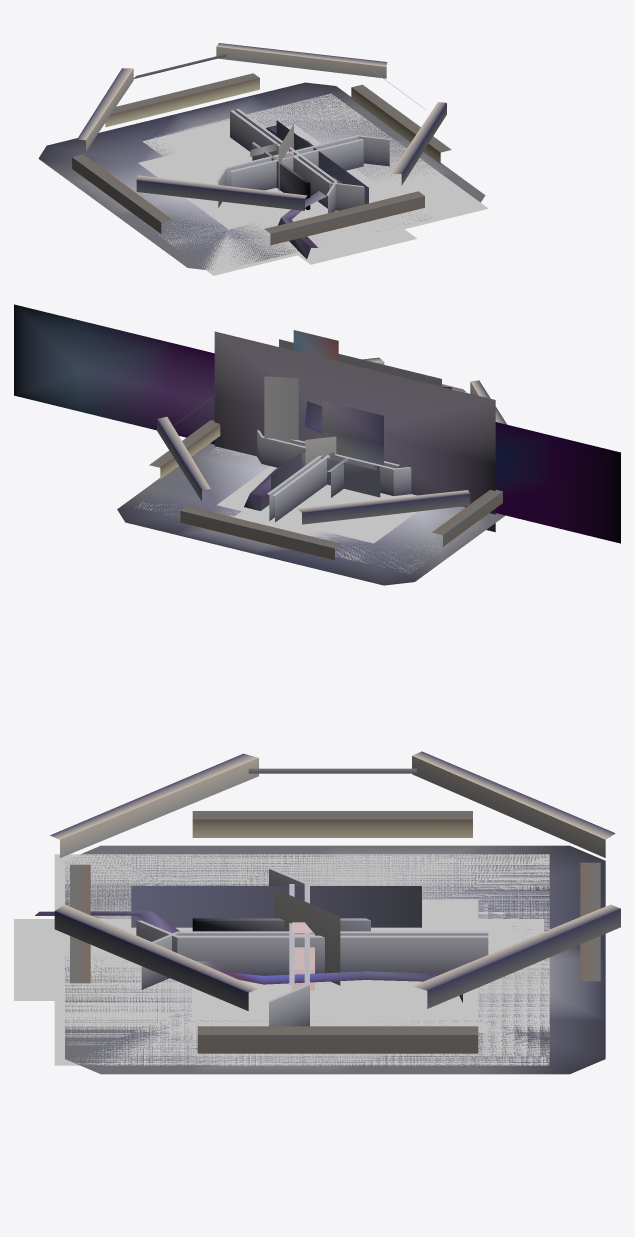
File: arena_armageddon.glb
The picture shows the model from 3 angles, top to bottom: view 1: azimuth 30°, elevation 25°; view 2: azimuth 150°, elevation 25°; view 3: azimuth 270°, elevation 25°; orthographic projection. The views are drawn at different scales.
Parts seen in each view (by area): view 1: 0x5ea_Arena_Armageddon_Barricades, 0x55b_Arena_Normal_Match_Outside_Floormats_Four_Corner_Secti, 0x55d_Arena_Normal_Match_Ring_Mat_Polygon, 0x55e_Arena_Scaffolding_Piece_1_Polygon, 0x55a_Arena_Back_Rafter_Sign_Polygon, 0x5eb_Arena_Armageddon_Stage_area_Under_the_Tank, 0x551_Arena_Right_Barricade_Lower_Side_Polygon, 0x54f_Arena_Right_Aisle_Barricade_Polygon, 0x553_Arena_Front_Barricade_Right_Side_Polygon, 0x5e9_Arena_Armageddon_The_Small_Brickwall, 0x556_Arena_Left_Barricade_Upper_Side_Polygon, 0x54e_Arena_Left_Aisle_Barricade_Polygon (+6 smaller); view 2: 0x5e7_Arena_Armageddon_Upper_Lights_hard_to_see, 0x5f1_Arena_Armageddon_Rightside_Column_Structure, 0x55b_Arena_Normal_Match_Outside_Floormats_Four_Corner_Secti, 0x55d_Arena_Normal_Match_Ring_Mat_Polygon, 0x55a_Arena_Back_Rafter_Sign_Polygon, 0x55e_Arena_Scaffolding_Piece_1_Polygon, 0x5ea_Arena_Armageddon_Barricades, 0x5f0_Arena_Armageddon_Leftside_Column_Structure, 0x5eb_Arena_Armageddon_Stage_area_Under_the_Tank, 0x5ec_Arena_Armageddon_Ramp_from_stage_to_Ring_Aisle_floor, 0x552_Arena_Right_Barricade_Upper_Side_Polygon, 0x560_Arena_Scaffolding_Piece_3_Polygon (+10 smaller); view 3: 0x5ea_Arena_Armageddon_Barricades, 0x55b_Arena_Normal_Match_Outside_Floormats_Four_Corner_Secti, 0x55e_Arena_Scaffolding_Piece_1_Polygon, 0x55a_Arena_Back_Rafter_Sign_Polygon, 0x55d_Arena_Normal_Match_Ring_Mat_Polygon, 0x5e9_Arena_Armageddon_The_Small_Brickwall, 0x554_Arena_Front_Barricade_Left_Side_Polygon, 0x5eb_Arena_Armageddon_Stage_area_Under_the_Tank, 0x555_Arena_Left_Barricade_Lower_Side_Polygon, 0x5e8_Arena_Armageddon_Curtain_Behind_Entry_on_Left_and_midd, 0x559_Arena_Front_Rafter_Sign_Polygon, 0x553_Arena_Front_Barricade_Right_Side_Polygon (+4 smaller).
Boxes of the visible parts, x1=… form: 0x5ea_Arena_Armageddon_Barricades: x1=138, y1=93, x2=488, y2=275; 0x55b_Arena_Normal_Match_Outside_Floormats_Four_Corner_Secti: x1=68, y1=95, x2=455, y2=258; 0x55d_Arena_Normal_Match_Ring_Mat_Polygon: x1=72, y1=73, x2=451, y2=245; 0x55e_Arena_Scaffolding_Piece_1_Polygon: x1=77, y1=43, x2=446, y2=210; 0x55a_Arena_Back_Rafter_Sign_Polygon: x1=38, y1=82, x2=485, y2=270; 0x5eb_Arena_Armageddon_Stage_area_Under_the_Tank: x1=142, y1=116, x2=416, y2=264; 0x551_Arena_Right_Barricade_Lower_Side_Polygon: x1=230, y1=110, x2=364, y2=210; 0x54f_Arena_Right_Aisle_Barricade_Polygon: x1=230, y1=149, x2=319, y2=190; 0x553_Arena_Front_Barricade_Right_Side_Polygon: x1=228, y1=135, x2=391, y2=186; 0x5e9_Arena_Armageddon_The_Small_Brickwall: x1=276, y1=120, x2=368, y2=204; 0x556_Arena_Left_Barricade_Upper_Side_Polygon: x1=282, y1=139, x2=363, y2=170; 0x54e_Arena_Left_Aisle_Barricade_Polygon: x1=252, y1=142, x2=310, y2=209; 0x5e7_Arena_Armageddon_Upper_Lights_hard_to_see: x1=14, y1=304, x2=620, y2=543; 0x5f1_Arena_Armageddon_Rightside_Column_Structure: x1=214, y1=331, x2=495, y2=532; 0x55b_Arena_Normal_Match_Outside_Floormats_Four_Corner_Secti: x1=147, y1=443, x2=505, y2=572; 0x55d_Arena_Normal_Match_Ring_Mat_Polygon: x1=149, y1=420, x2=502, y2=560; 0x55a_Arena_Back_Rafter_Sign_Polygon: x1=117, y1=488, x2=443, y2=585; 0x55e_Arena_Scaffolding_Piece_1_Polygon: x1=157, y1=357, x2=506, y2=524; 0x5ea_Arena_Armageddon_Barricades: x1=135, y1=447, x2=482, y2=573; 0x5f0_Arena_Armageddon_Leftside_Column_Structure: x1=322, y1=400, x2=383, y2=465; 0x5eb_Arena_Armageddon_Stage_area_Under_the_Tank: x1=233, y1=484, x2=400, y2=539; 0x5ec_Arena_Armageddon_Ramp_from_stage_to_Ring_Aisle_floor: x1=264, y1=376, x2=451, y2=442; 0x552_Arena_Right_Barricade_Upper_Side_Polygon: x1=264, y1=438, x2=411, y2=495; 0x560_Arena_Scaffolding_Piece_3_Polygon: x1=301, y1=452, x2=380, y2=497; 0x5ea_Arena_Armageddon_Barricades: x1=54, y1=854, x2=549, y2=1065; 0x55b_Arena_Normal_Match_Outside_Floormats_Four_Corner_Secti: x1=65, y1=845, x2=605, y2=1074; 0x55e_Arena_Scaffolding_Piece_1_Polygon: x1=50, y1=751, x2=620, y2=1010; 0x55a_Arena_Back_Rafter_Sign_Polygon: x1=65, y1=845, x2=605, y2=1074; 0x55d_Arena_Normal_Match_Ring_Mat_Polygon: x1=70, y1=811, x2=600, y2=1053; 0x5e9_Arena_Armageddon_The_Small_Brickwall: x1=131, y1=886, x2=421, y2=927; 0x554_Arena_Front_Barricade_Left_Side_Polygon: x1=182, y1=935, x2=421, y2=975; 0x5eb_Arena_Armageddon_Stage_area_Under_the_Tank: x1=14, y1=919, x2=544, y2=1000; 0x555_Arena_Left_Barricade_Lower_Side_Polygon: x1=136, y1=920, x2=488, y2=975; 0x5e8_Arena_Armageddon_Curtain_Behind_Entry_on_Left_and_midd: x1=35, y1=911, x2=462, y2=1002; 0x559_Arena_Front_Rafter_Sign_Polygon: x1=274, y1=888, x2=340, y2=985; 0x553_Arena_Front_Barricade_Right_Side_Polygon: x1=269, y1=886, x2=309, y2=1026.
Size of the model in its own units: 15.12 by 4.48 by 8.33.
